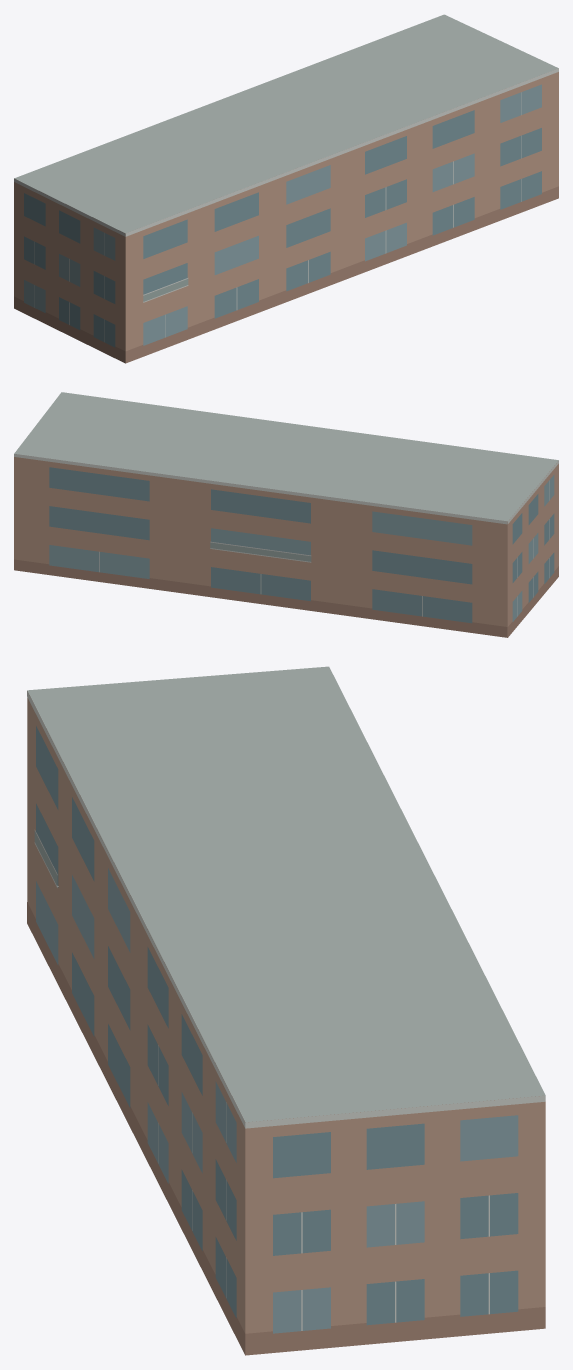
The model's file is survey-upis-32709158.glb.
3 renders of one model, top to bottom at view 1: azimuth 30°, elevation 25°; view 2: azimuth 150°, elevation 25°; view 3: azimuth 270°, elevation 25°, orthographic. The views are drawn at different scales.
Parts seen in each view (by area): view 1: survey-upis-32709158.tmp; view 2: survey-upis-32709158.tmp; view 3: survey-upis-32709158.tmp.
Boxes of the visible parts, bbox=[...] form: survey-upis-32709158.tmp: bbox=[14, 14, 558, 363]; survey-upis-32709158.tmp: bbox=[14, 392, 558, 637]; survey-upis-32709158.tmp: bbox=[27, 666, 545, 1355].
Bounding box in the file's own units: 38.4 × 9.15 × 18.47.
